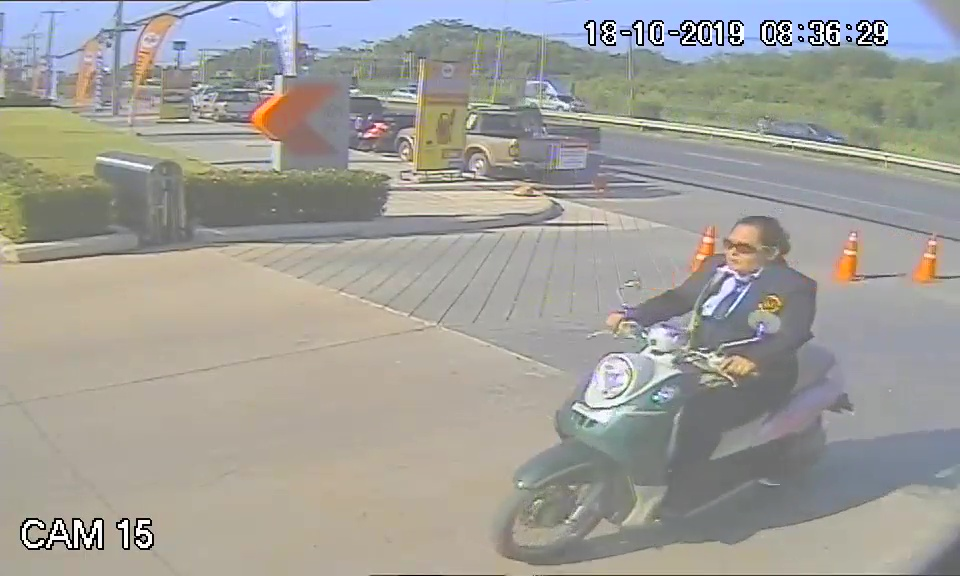motorcycle: (487, 322, 857, 562)
